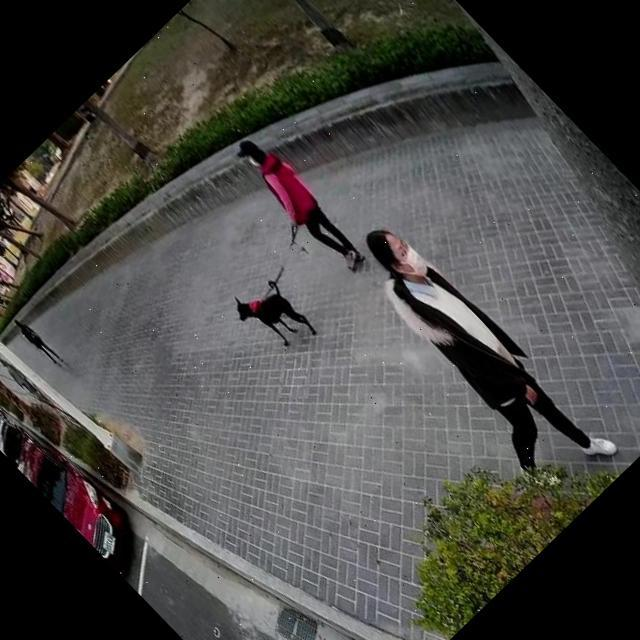person: (320, 204, 628, 517), (221, 120, 377, 280), (3, 306, 69, 374), (0, 345, 59, 416)
